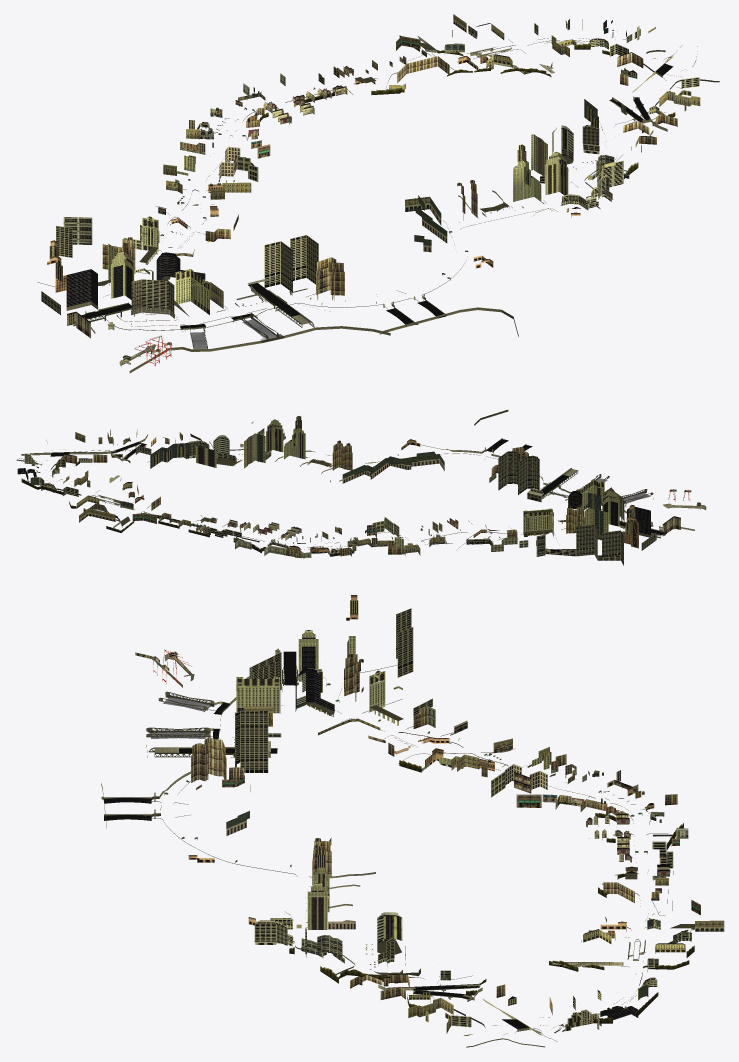
Rendered from track-B2_C3_V1.glb.
3 renders of one model, top to bottom at view 1: azimuth 30°, elevation 25°; view 2: azimuth 150°, elevation 25°; view 3: azimuth 270°, elevation 25°, orthographic. The views are drawn at different scales.
Visible parts, largest first — view 1: B2_C3_V1; view 2: B2_C3_V1; view 3: B2_C3_V1.
Part boxes in pixels (x1=…): B2_C3_V1: x1=37, y1=14, x2=719, y2=373; B2_C3_V1: x1=16, y1=409, x2=706, y2=565; B2_C3_V1: x1=101, y1=595, x2=724, y2=1047.
Bounding box in the file's own units: 2919 × 231 × 2097.
89 materials, 88 textured.
